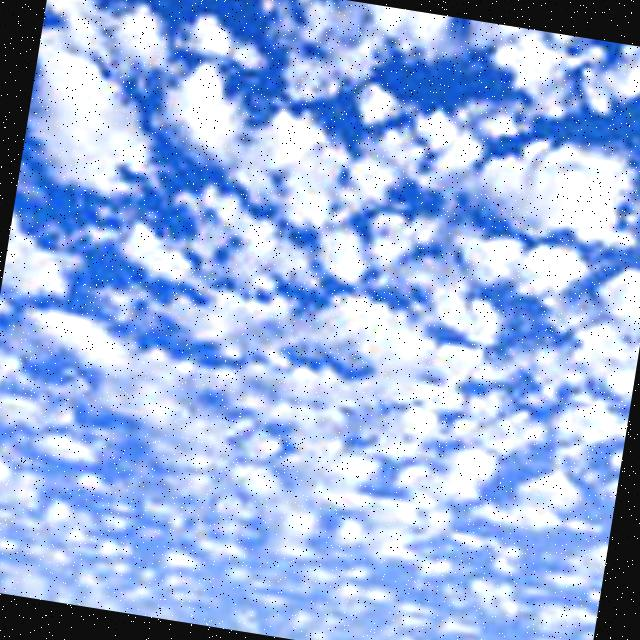Ac: (1, 5, 640, 640)
